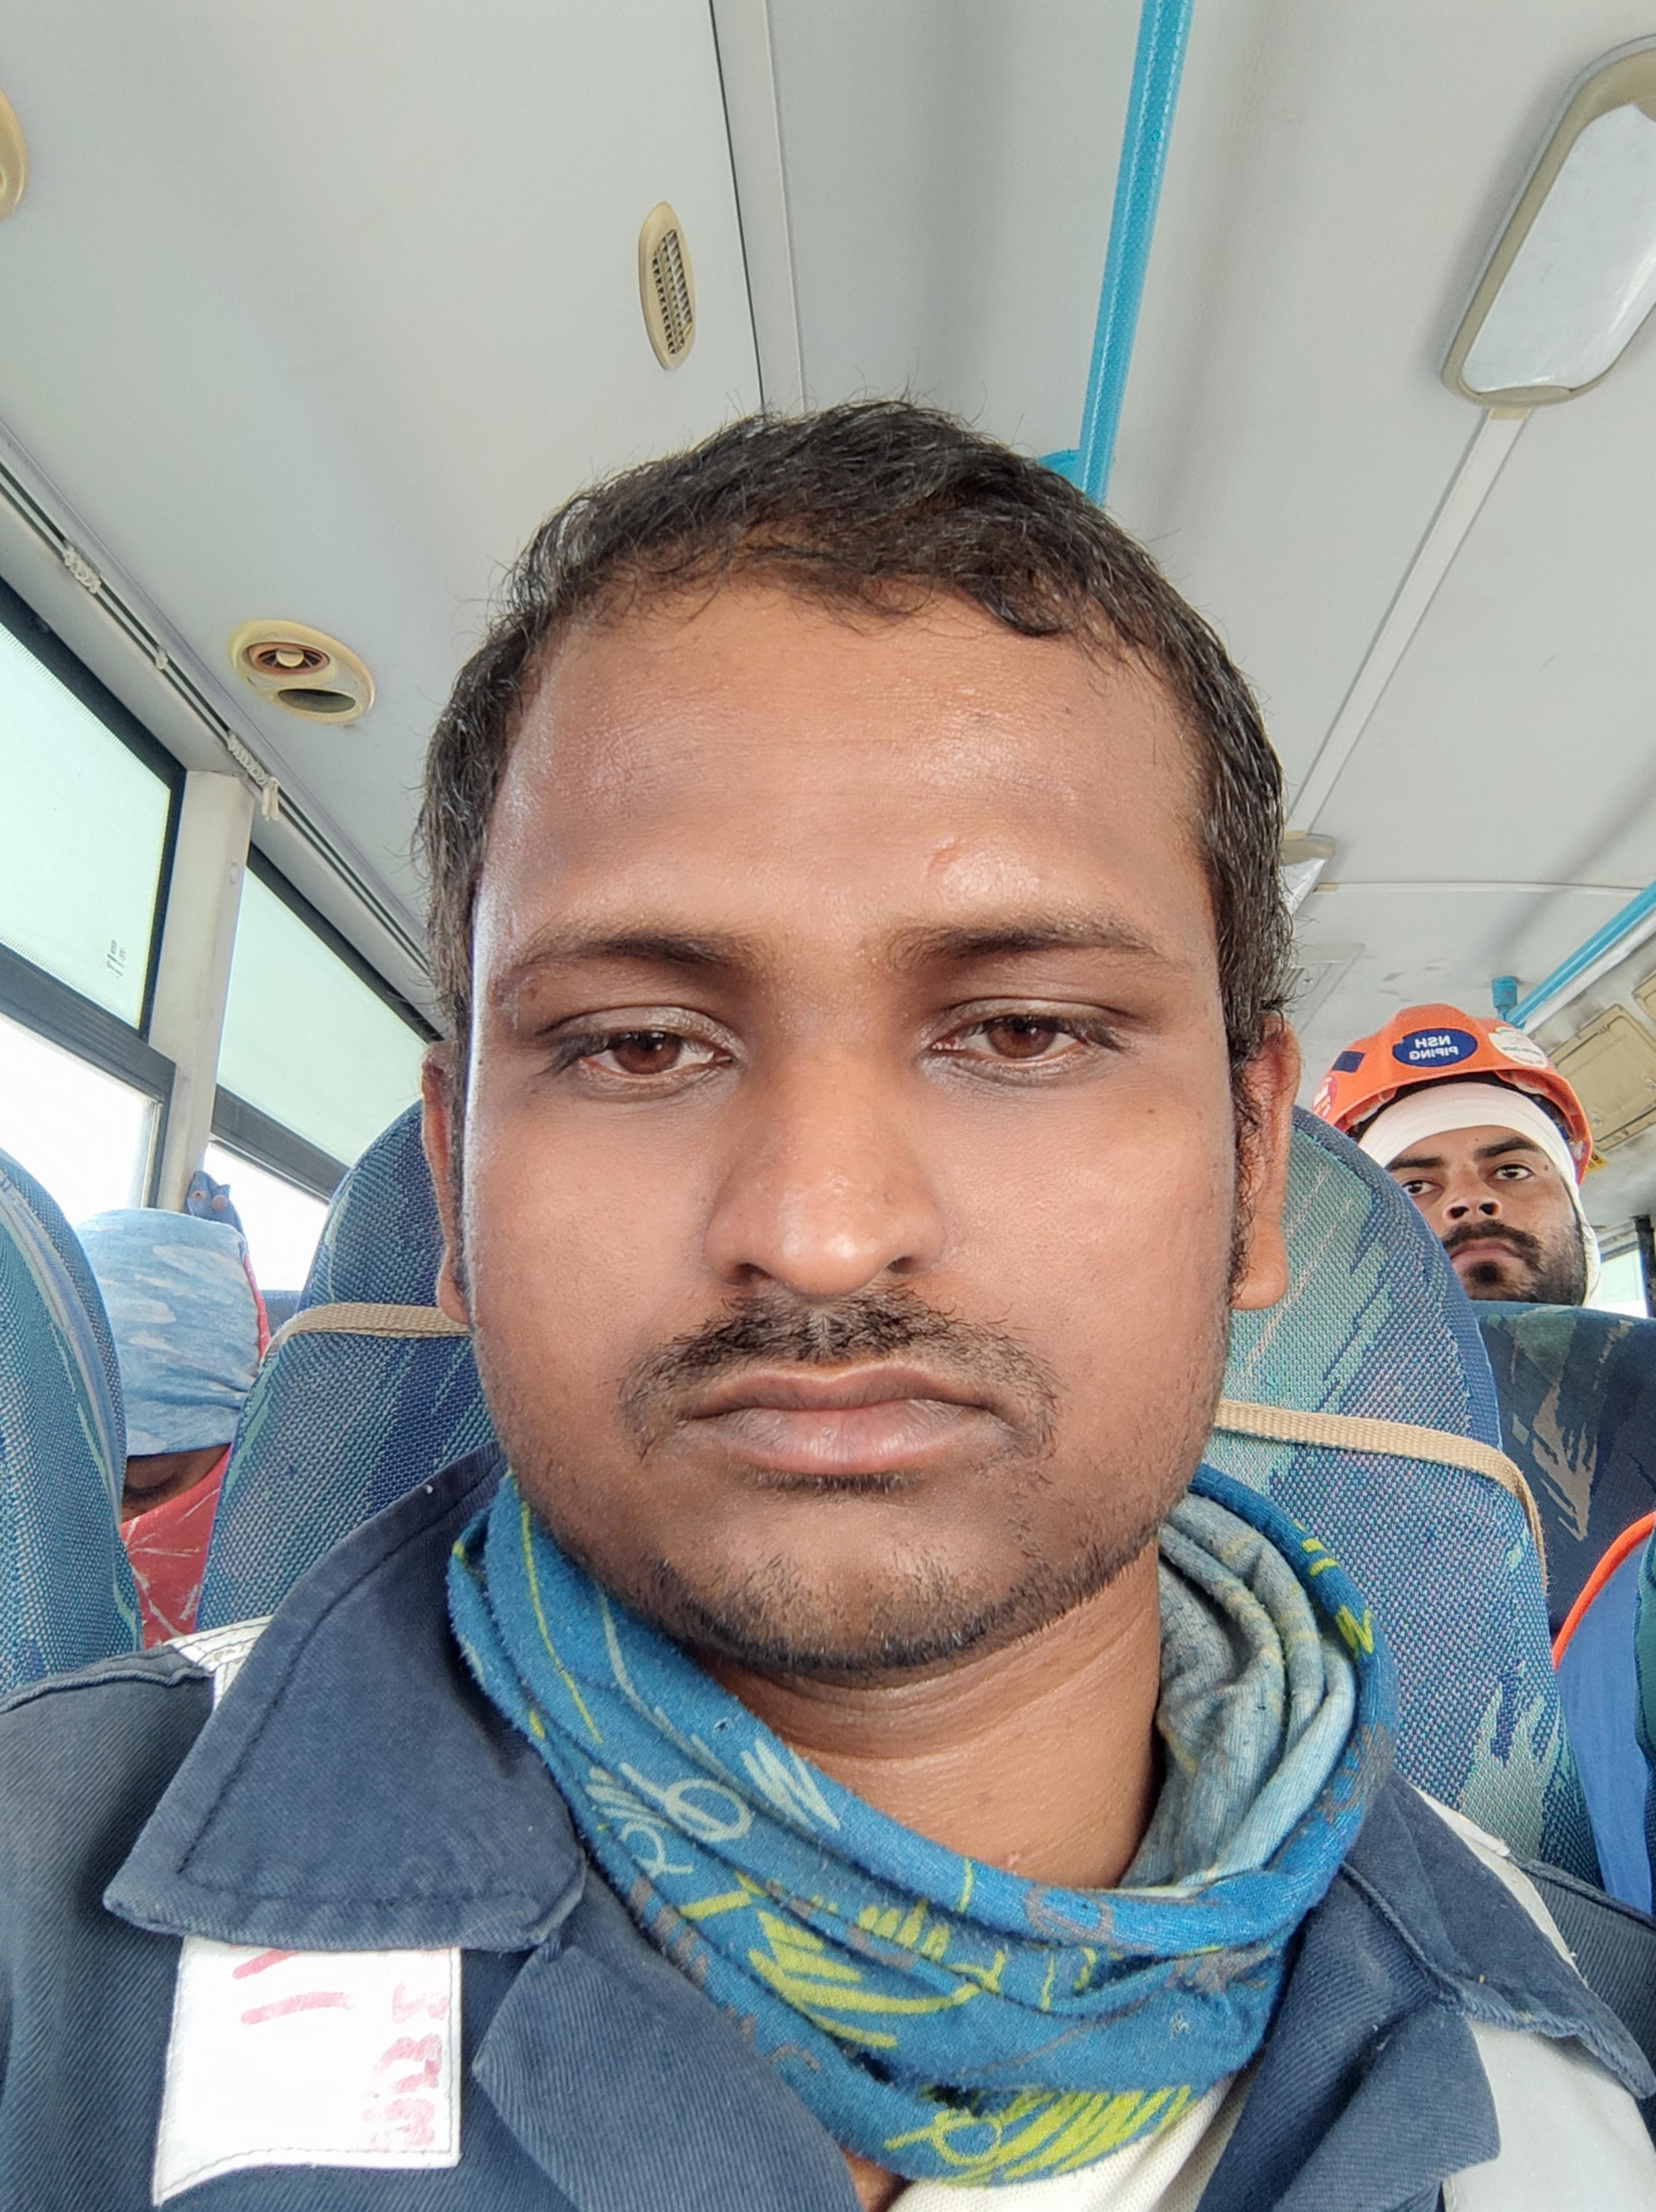Englarged-Pores: (990, 1174, 1103, 1325), (550, 1188, 640, 1318)
Wrinkles: (624, 727, 1000, 765), (798, 788, 992, 812), (652, 683, 974, 697)
